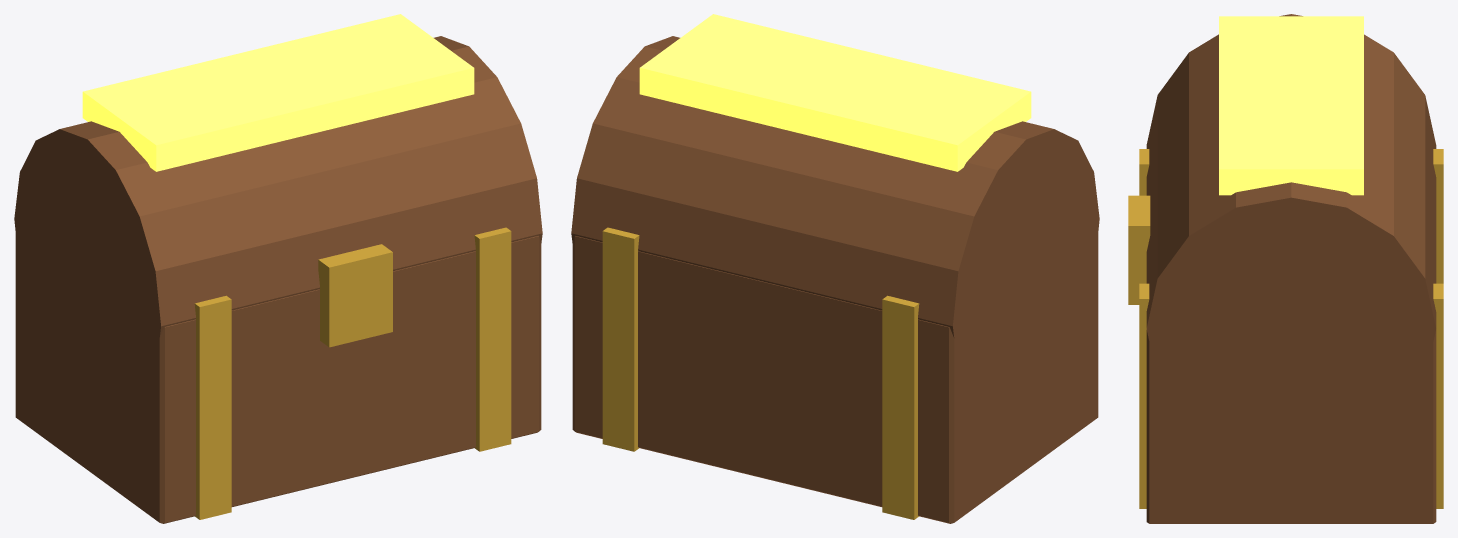
File: chest-lod0.glb
The picture shows the model from 3 angles, left to right: view 1: azimuth 30°, elevation 25°; view 2: azimuth 150°, elevation 25°; view 3: azimuth 270°, elevation 25°; orthographic projection.
Visible parts, largest first — view 1: chest; view 2: chest; view 3: chest.
Part boxes in pixels (left/top/right/bottom): chest: left=14, top=14, right=542, bottom=523; chest: left=571, top=14, right=1099, bottom=523; chest: left=1128, top=14, right=1443, bottom=523.
Size of the model in its own units: 0.6 by 0.52 by 0.435.
